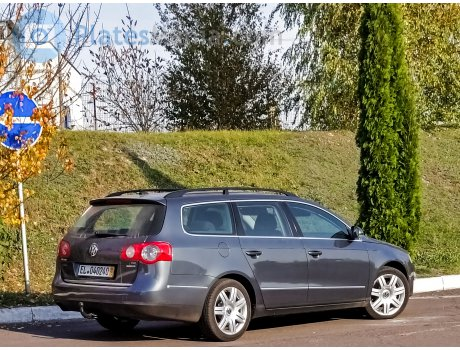License Plates: (78, 264, 115, 275)
